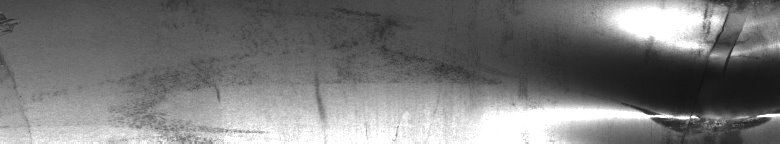ke: (597, 4, 776, 134)
